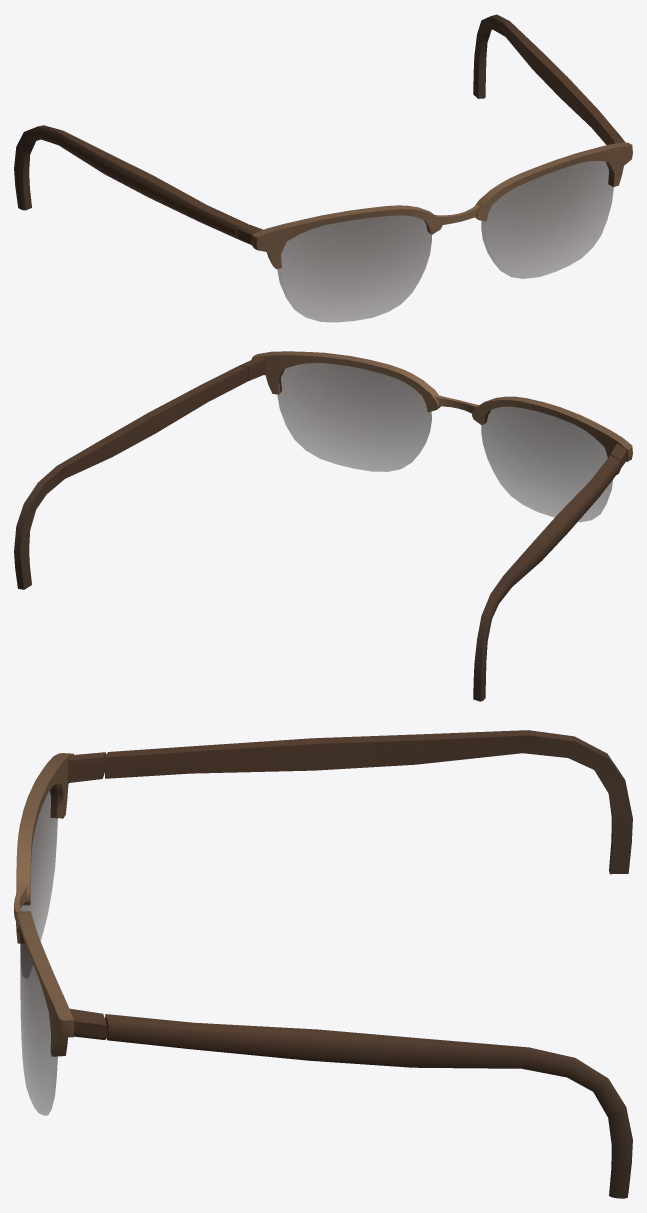
3 renders of one model, top to bottom at view 1: azimuth 30°, elevation 25°; view 2: azimuth 150°, elevation 25°; view 3: azimuth 270°, elevation 25°, orthographic. The views are drawn at different scales.
Visible parts, largest first — view 1: Wolf3D_Glasses; view 2: Wolf3D_Glasses; view 3: Wolf3D_Glasses.
Part boxes in pixels (x1=…): Wolf3D_Glasses: x1=14, y1=14, x2=632, y2=322; Wolf3D_Glasses: x1=14, y1=351, x2=632, y2=701; Wolf3D_Glasses: x1=14, y1=730, x2=632, y2=1198.
Bounding box in the file's own units: 0.1666 × 0.0381 × 0.1311.
Materials: 1 (1 with a texture image).
